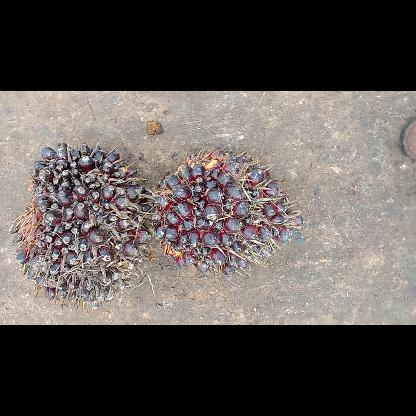TBS mentah: (10, 142, 156, 298), (160, 150, 304, 272)
